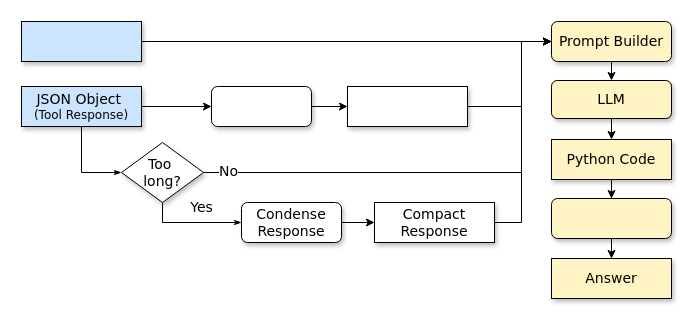
Image size: 695x323. Some labels were removed from this diagram. Each missing label, with the centre of its shape:
Generate Schema: [262,108]
Python Interpreter (Sandbox): [612,220]
Schema: [408,108]
User Query: [82,42]
